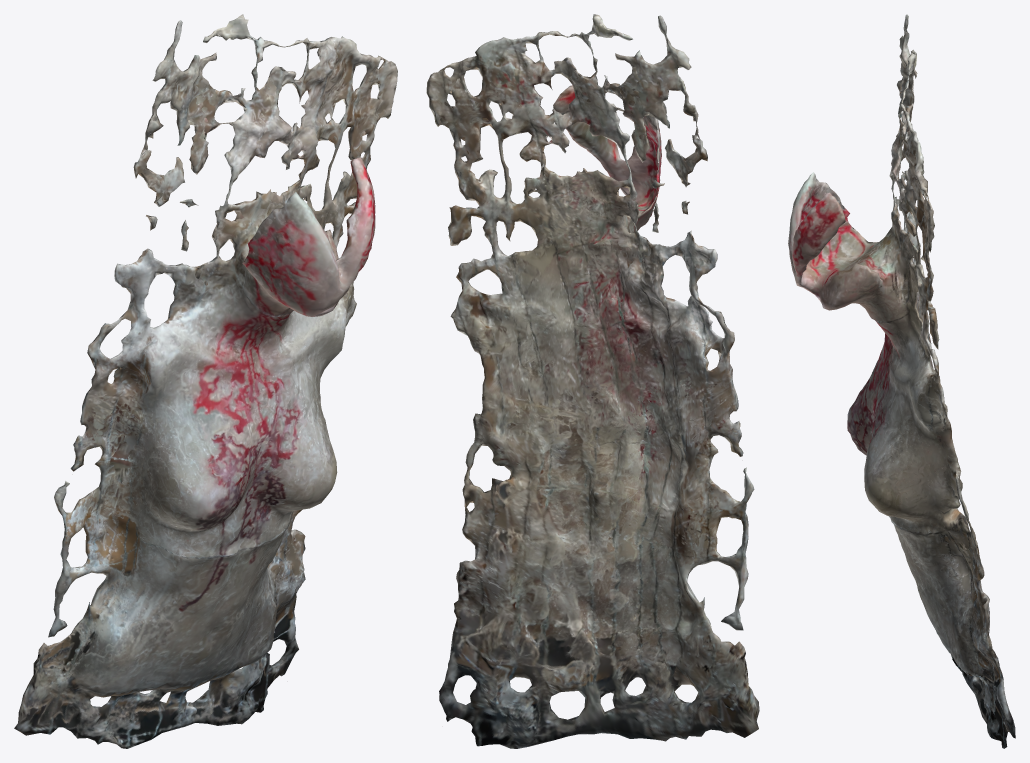
File: FA-001-backup-raw.glb
3 views of the same model, side by side, from view 1: azimuth 30°, elevation 25°; view 2: azimuth 150°, elevation 25°; view 3: azimuth 270°, elevation 25° (orthographic). The views are drawn at different scales.
Parts seen in each view (by area): view 1: ObjectCapture; view 2: ObjectCapture; view 3: ObjectCapture.
Part boxes in pixels (box(x1,y1,x2,y2)): ObjectCapture: box(14, 14, 397, 748); ObjectCapture: box(426, 14, 759, 748); ObjectCapture: box(788, 14, 1015, 748).
Bounding box in the file's own units: 0.4866 × 0.9696 × 0.2959.
Materials: 1 (1 with a texture image).
